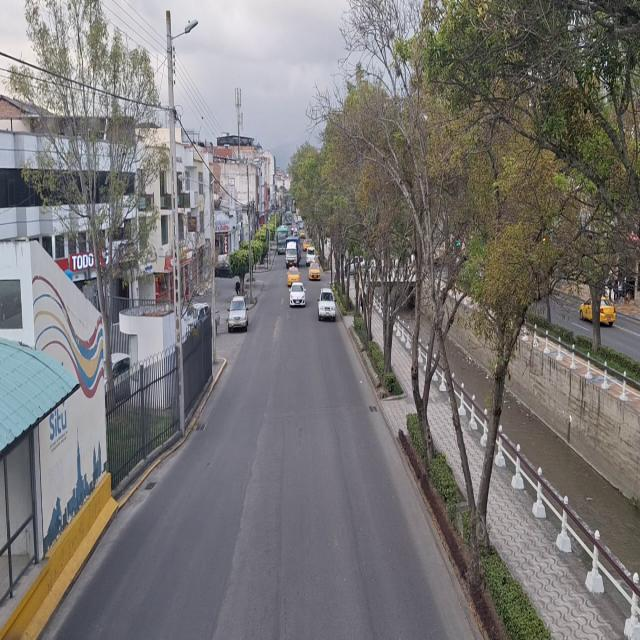BUS: (277, 228, 288, 254)
SUV: (230, 298, 248, 330), (318, 289, 336, 318)
TRUCK: (285, 236, 300, 268), (306, 247, 315, 264)
